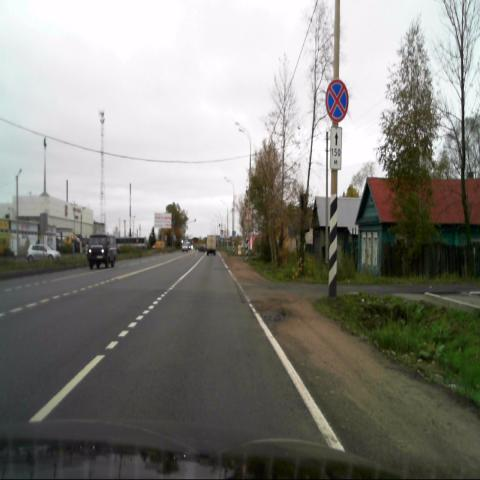8_2_2: (330, 126, 342, 171)
